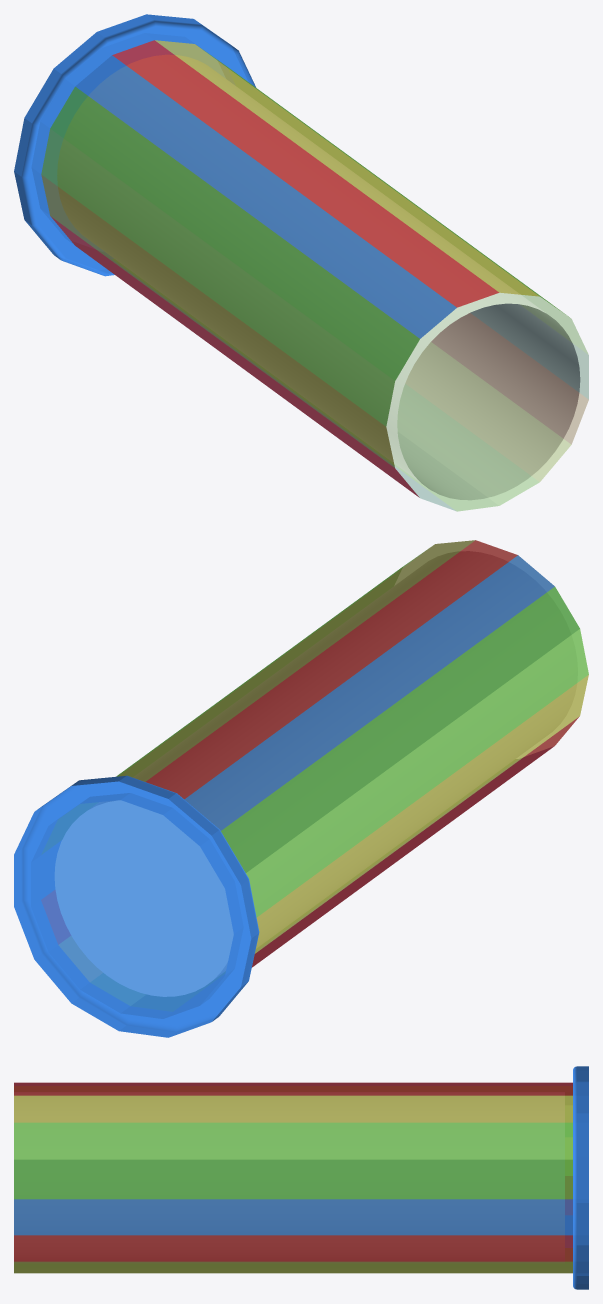
The model's file is model_align.obj.
3 views of the same model, one above another, from view 1: azimuth 30°, elevation 25°; view 2: azimuth 150°, elevation 25°; view 3: azimuth 270°, elevation 25° (orthographic). The views are drawn at different scales.
Parts seen in each view (by area): view 1: mesh1_mesh1-geometry; view 2: mesh1_mesh1-geometry; view 3: mesh1_mesh1-geometry.
Part boxes in pixels (x1,y1,x2,y2): mesh1_mesh1-geometry: [14, 14, 588, 511]; mesh1_mesh1-geometry: [14, 540, 588, 1037]; mesh1_mesh1-geometry: [14, 1066, 588, 1289].
Size of the model in its own units: 0.0888 by 0.0893 by 0.2301.
